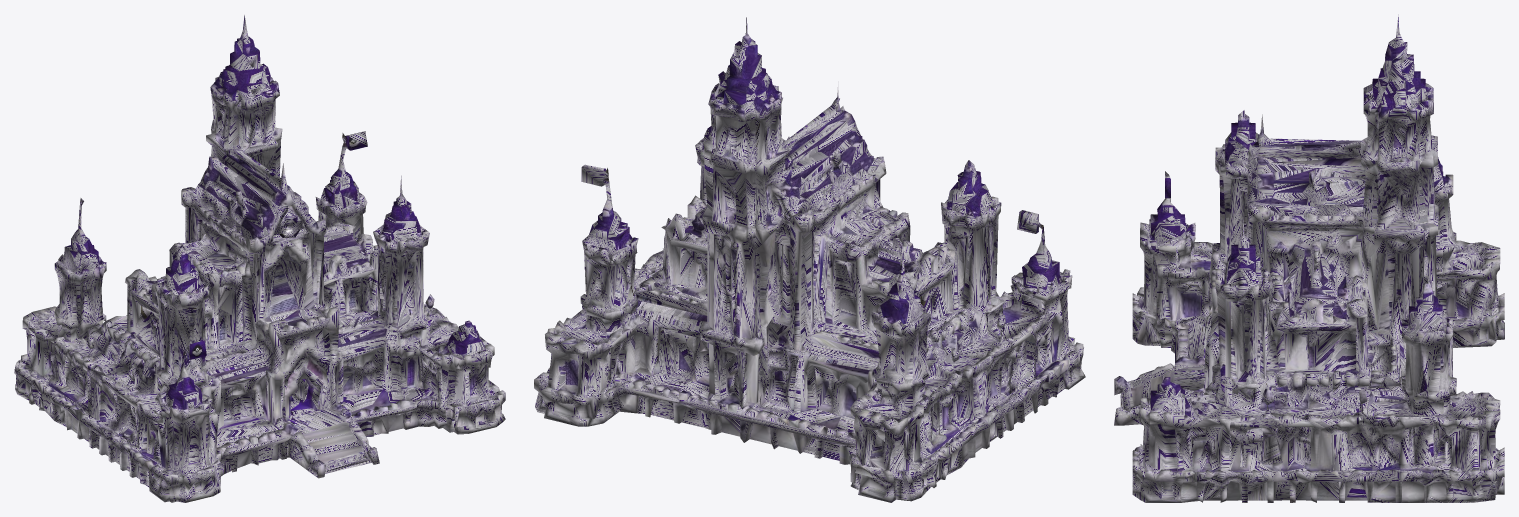
Rendered from Amethyst_Citadel.glb.
3 views of the same model, side by side, from view 1: azimuth 30°, elevation 25°; view 2: azimuth 150°, elevation 25°; view 3: azimuth 270°, elevation 25° (orthographic). The views are drawn at different scales.
Parts seen in each view (by area): view 1: Amethyst_Citadel; view 2: Amethyst_Citadel; view 3: Amethyst_Citadel.
Boxes of the visible parts, bbox=[...] form: Amethyst_Citadel: bbox=[14, 15, 505, 502]; Amethyst_Citadel: bbox=[534, 17, 1085, 502]; Amethyst_Citadel: bbox=[1114, 14, 1504, 502].
Size of the model in its own units: 1.89 by 1.9 by 1.66.
1 material, 1 textured.
